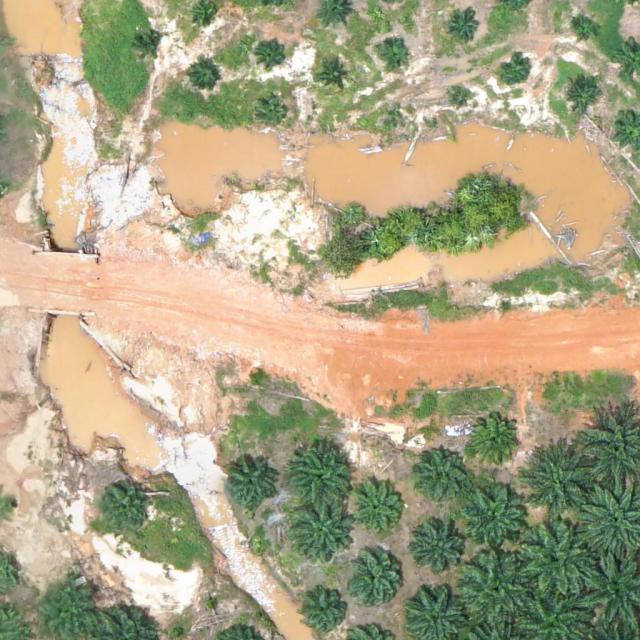Healthy: (524, 441, 602, 520), (521, 519, 599, 598), (459, 550, 537, 629), (465, 486, 528, 549), (292, 501, 355, 564), (290, 443, 352, 506), (417, 449, 472, 504), (350, 484, 405, 539), (348, 554, 403, 609), (224, 459, 279, 514), (467, 414, 521, 469), (413, 524, 467, 579)
Small: (98, 484, 153, 539), (298, 584, 352, 639), (562, 75, 601, 114), (378, 35, 409, 67), (257, 37, 288, 69), (320, 62, 351, 94), (450, 14, 481, 45), (500, 56, 531, 87), (189, 63, 220, 94), (570, 16, 601, 47), (258, 101, 289, 132), (134, 33, 165, 64), (453, 89, 468, 104), (394, 110, 409, 125)
